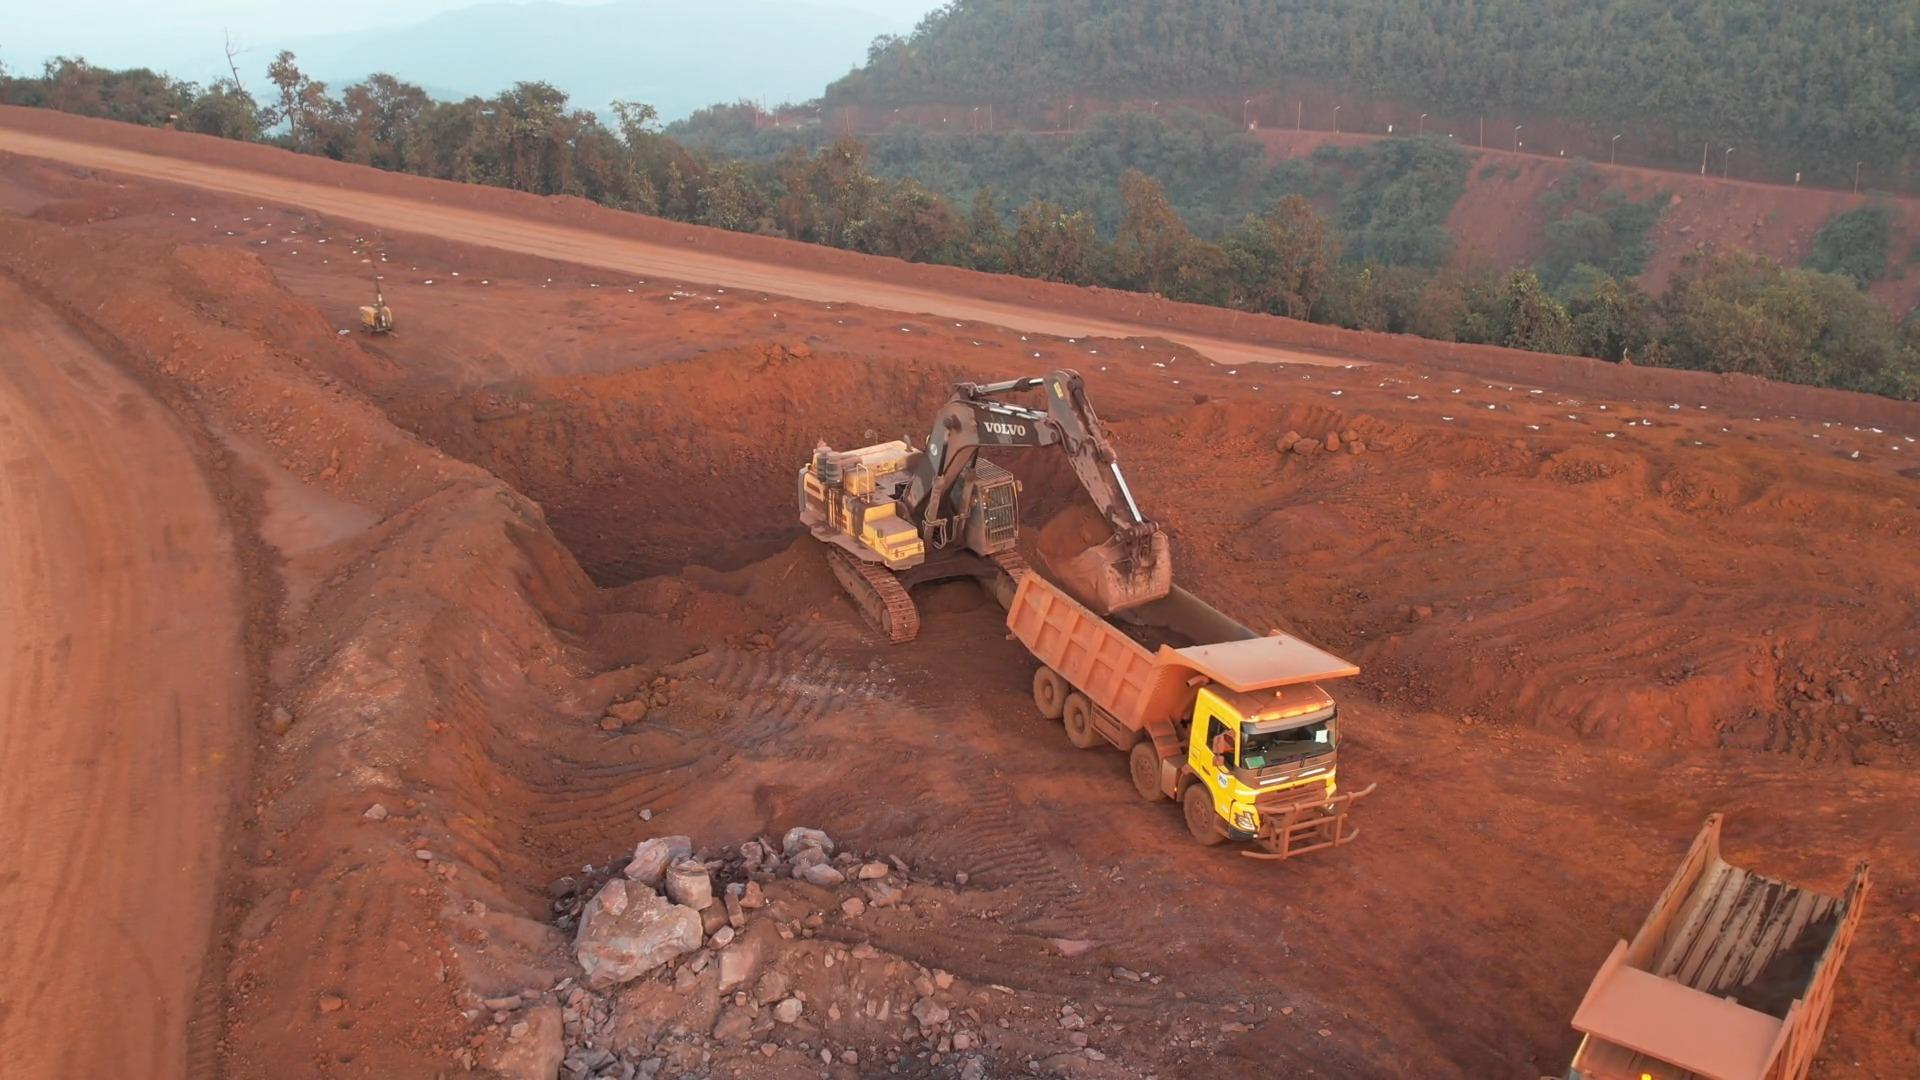excavator: (818, 380, 1118, 570)
